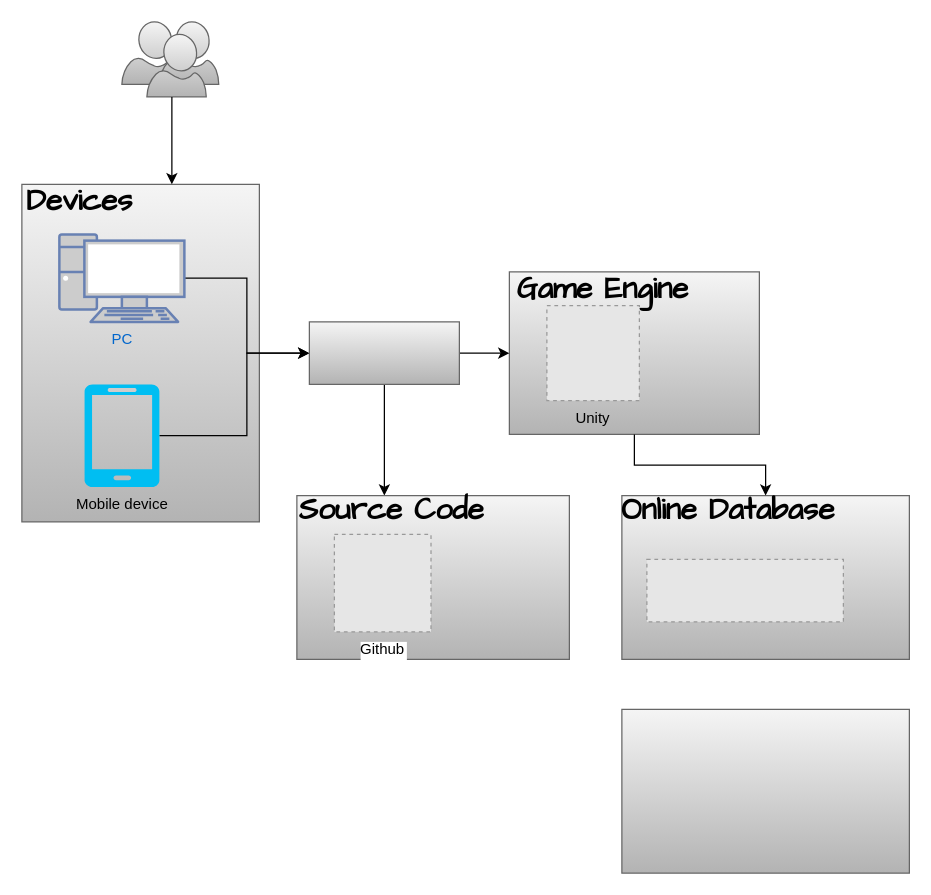
Some shapes in this 931 by 895 pixel diagram are drawn without their labels. Grey dashed boxes stand in for pictures. Each missing label, with the centre of its shape:
"Game" belongs at pixel 383 352.
"Players" belongs at pixel 176 65.
